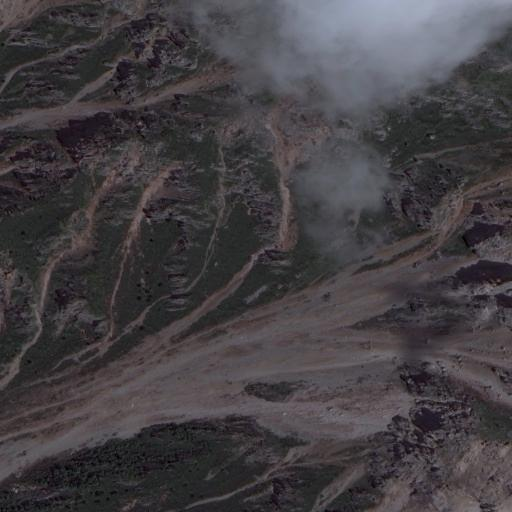landslide: (2, 206, 507, 479)
